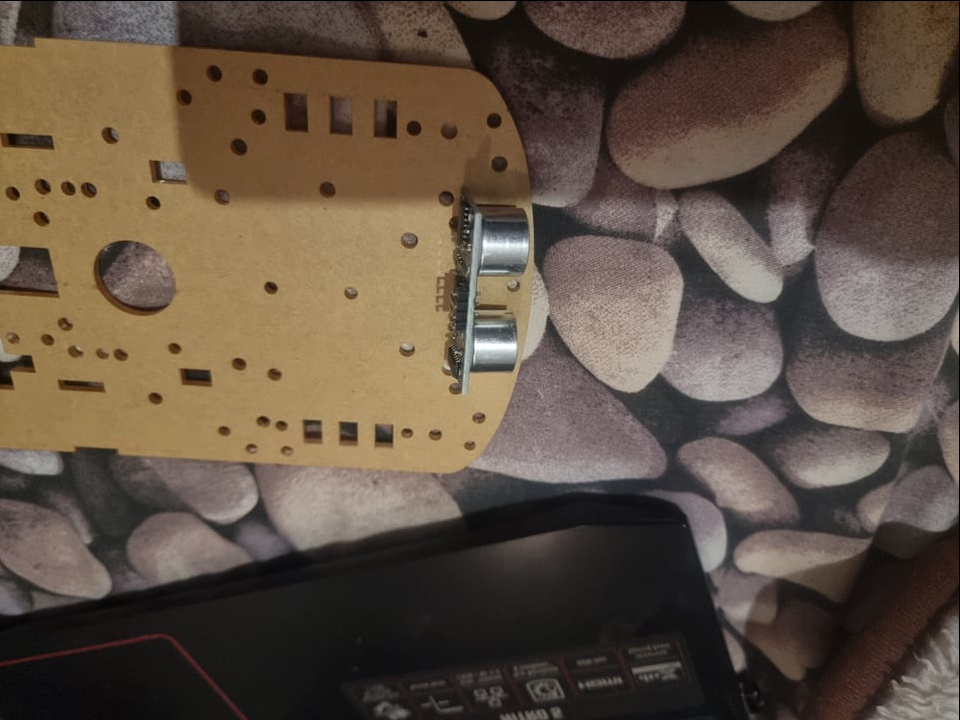SENSOR: (445, 187, 531, 391)
